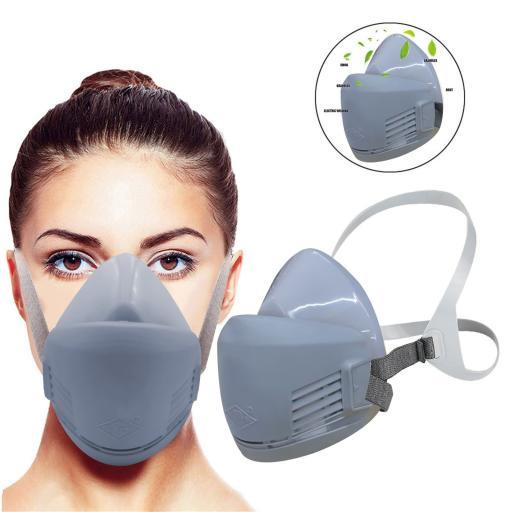mask: (23, 251, 210, 485)
